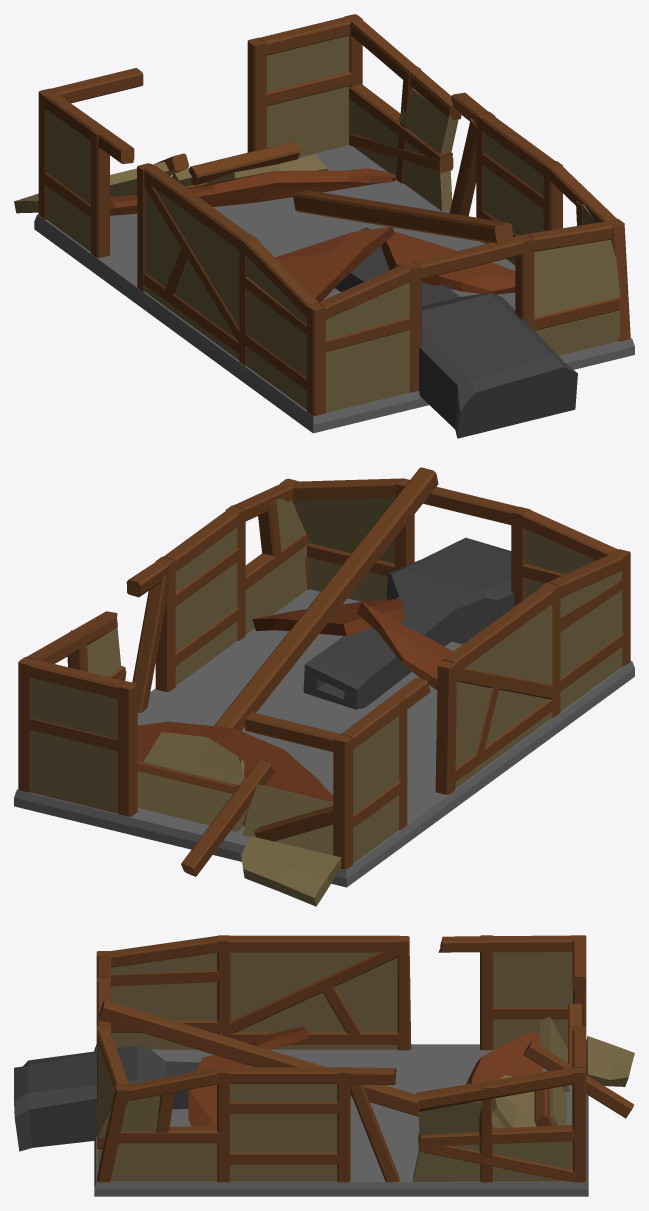
File: House_Longer_broken.fbx
3 views of the same model, one above another, from view 1: azimuth 30°, elevation 25°; view 2: azimuth 150°, elevation 25°; view 3: azimuth 270°, elevation 25° (orthographic). The views are drawn at different scales.
Visible parts, largest first — view 1: Base, Cube, Cube.014, Cube.024, Cube.027, BalkenF.040, Cube.001, Cube.025, Cube.003, Cube.002, Cube.013, Cube.021 (+51 smaller); view 2: Base, Cube, BalkenF.040, Cube.014, Cube.025, Cube.001, Cube.022, Cube.027, Cube.021, Cube.020, Cube.019, Cube.023 (+54 smaller); view 3: Base, Cube.014, Cube, BalkenF.040, Cube.005, Cube.011, Cube.007, Cube.013, Cube.018, BalkenF.020, BalkenF.002, BalkenF.023 (+49 smaller).
Part boxes in pixels (x1,y1,x2,y2): Base: (34,145,634,433); Cube: (335,227,577,438); Cube.014: (145,189,239,338); Cube.024: (325,330,410,412); Cube.027: (534,239,620,317); BalkenF.040: (293,190,513,244); Cube.001: (110,168,396,215); Cube.025: (266,86,348,157); Cube.003: (275,226,393,301); Cube.002: (381,231,515,294); Cube.013: (351,100,452,211); Cube.021: (266,35,348,91); Base: (14,589,634,887); Cube: (303,537,514,709); BalkenF.040: (214,467,438,730); Cube.014: (455,604,552,767); Cube.025: (30,730,117,813); Cube.001: (137,721,333,809); Cube.022: (241,836,341,906); Cube.027: (292,497,394,563); Cube.021: (30,678,117,739); Cube.020: (143,732,244,785); Cube.019: (137,771,247,831); Cube.023: (242,784,333,855); Base: (94,1044,588,1196); Cube.014: (230,952,397,1032); Cube: (14,1045,199,1151); BalkenF.040: (99,1000,418,1116); Cube.005: (493,952,572,1007); Cube.011: (230,1113,337,1152); Cube.007: (110,1143,217,1181); Cube.013: (413,1141,572,1181); Cube.018: (111,982,217,1020); BalkenF.020: (229,935,399,952); BalkenF.002: (416,1067,574,1111); BalkenF.023: (224,945,403,1034).
Size of the model in its own units: 619 by 288 by 1130.
